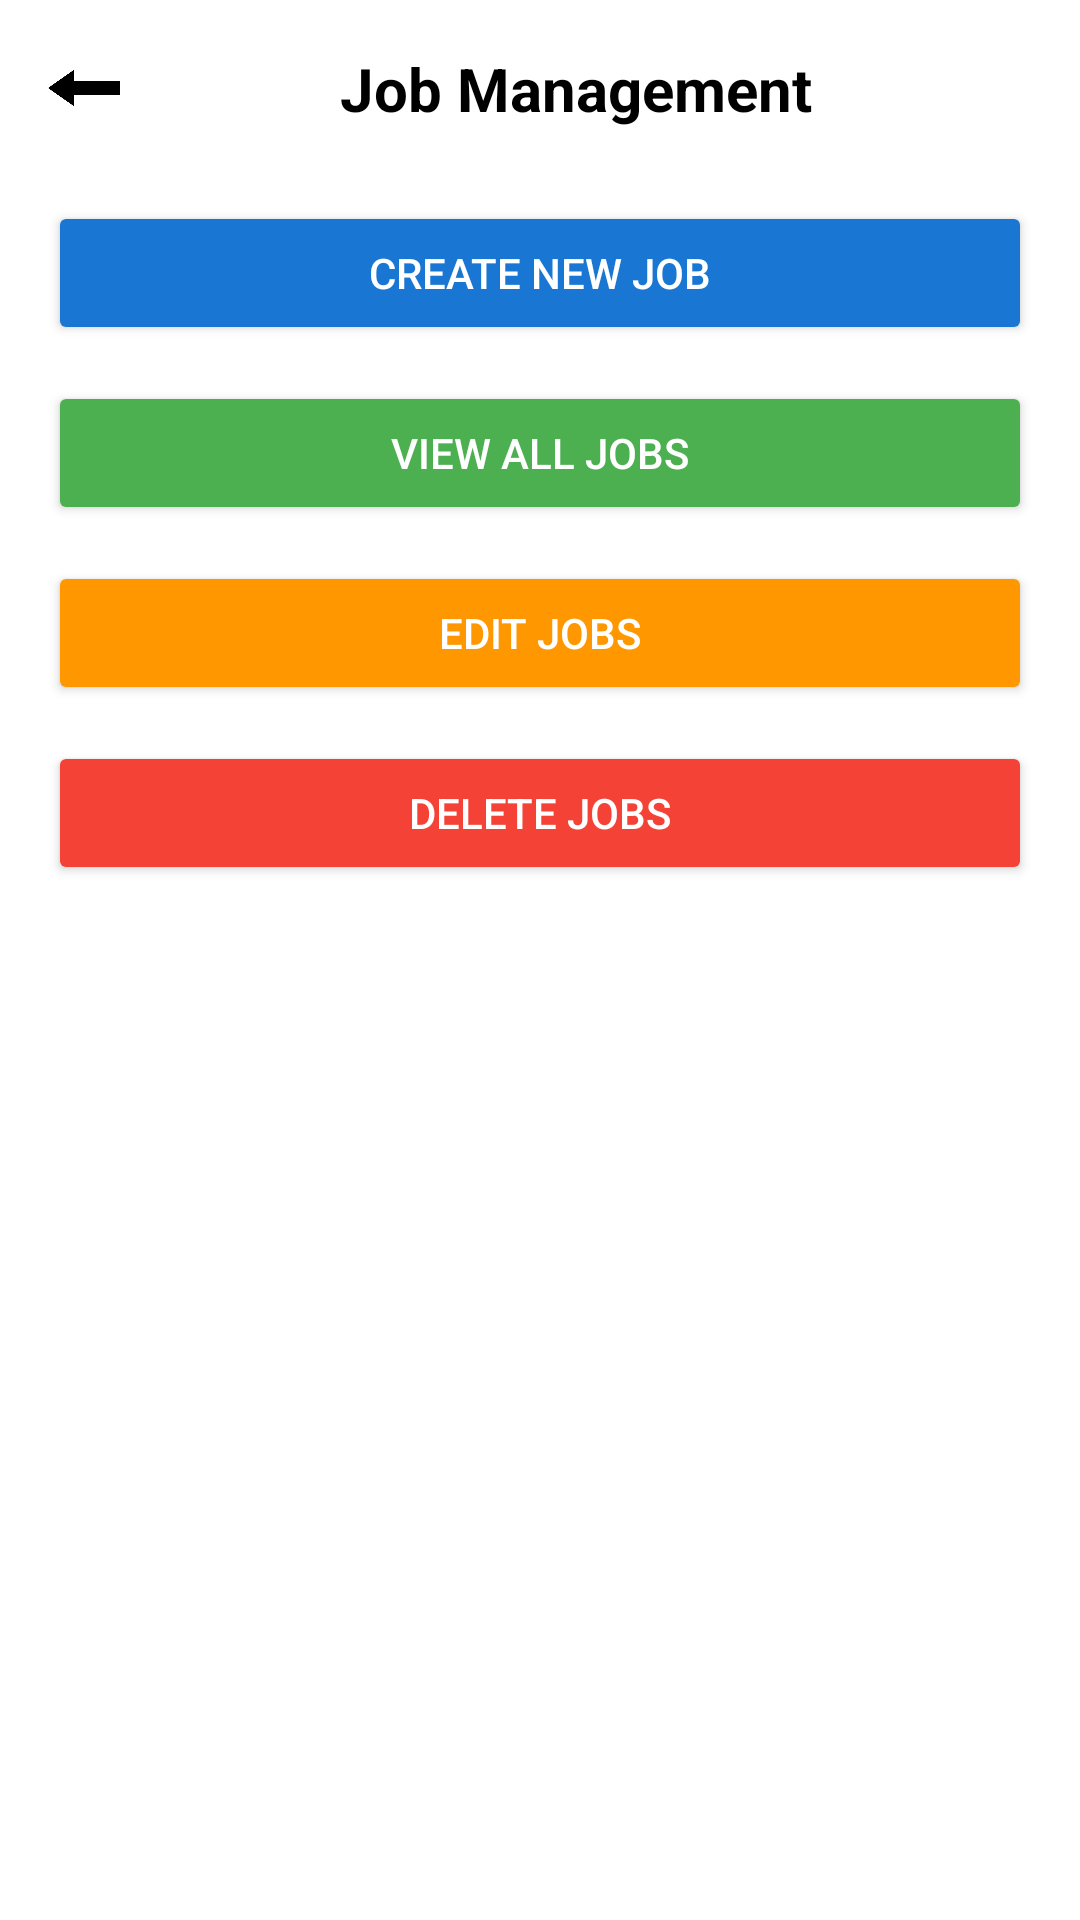

Icons on this 1080w x 1920h Android screen, each with its box as (x1, y1, x2, y2):
Back: (49, 70, 120, 106)
